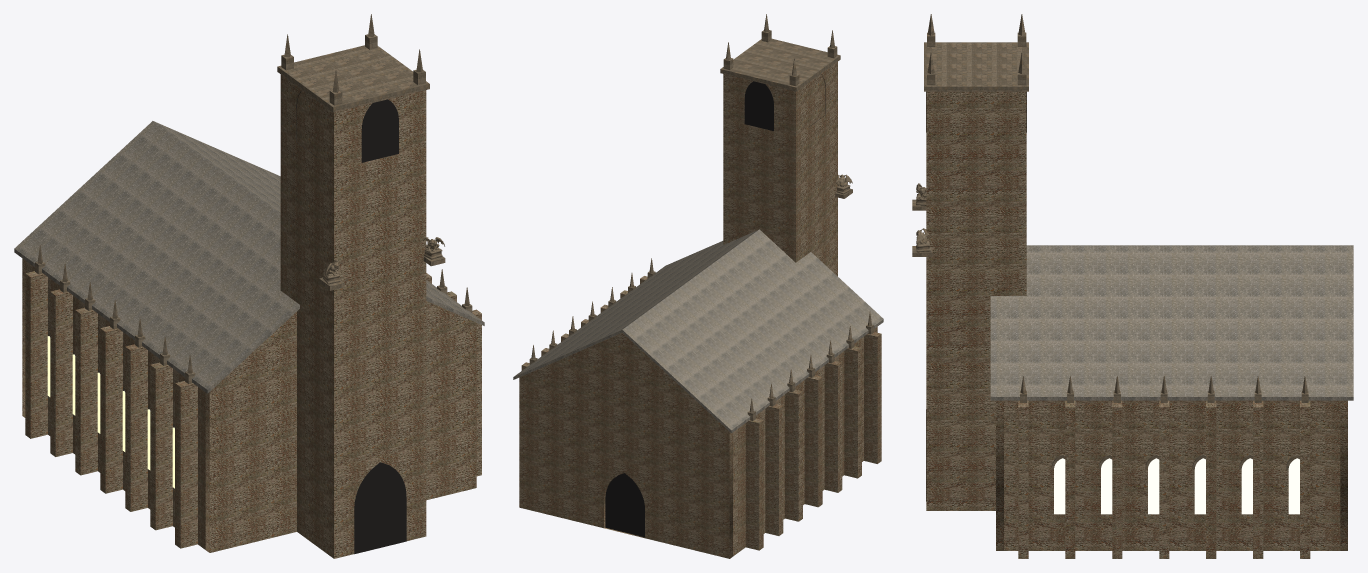
The model's file is organ-tower.glb.
The picture shows the model from 3 angles, left to right: view 1: azimuth 30°, elevation 25°; view 2: azimuth 150°, elevation 25°; view 3: azimuth 270°, elevation 25°; orthographic projection. The views are drawn at different scales.
Visible parts, largest first — view 1: firstcong_wall, firstcong_roof, firstcong_trim, firstcong_shadow, firstcong_glass, merged_firstcong_trim; view 2: firstcong_wall, firstcong_roof, firstcong_trim, firstcong_shadow; view 3: firstcong_wall, firstcong_roof, firstcong_trim, firstcong_glass.
Part boxes in pixels (<box>): firstcong_wall: <box>22,74,481,558</box>; firstcong_roof: <box>14,121,484,393</box>; firstcong_trim: <box>35,14,472,427</box>; firstcong_shadow: <box>296,91,406,554</box>; firstcong_glass: <box>47,336,174,488</box>; merged_firstcong_trim: <box>322,237,444,284</box>; firstcong_wall: <box>519,62,881,558</box>; firstcong_roof: <box>513,229,883,433</box>; firstcong_trim: <box>529,14,873,420</box>; firstcong_shadow: <box>605,74,825,537</box>; firstcong_wall: <box>926,91,1347,558</box>; firstcong_roof: <box>990,245,1353,400</box>; firstcong_trim: <box>912,14,1308,469</box>; firstcong_glass: <box>1054,458,1299,514</box>.
Bounding box in the file's own units: 20.9 × 32.22 × 28.2.
Materials: 8 (5 with a texture image).
